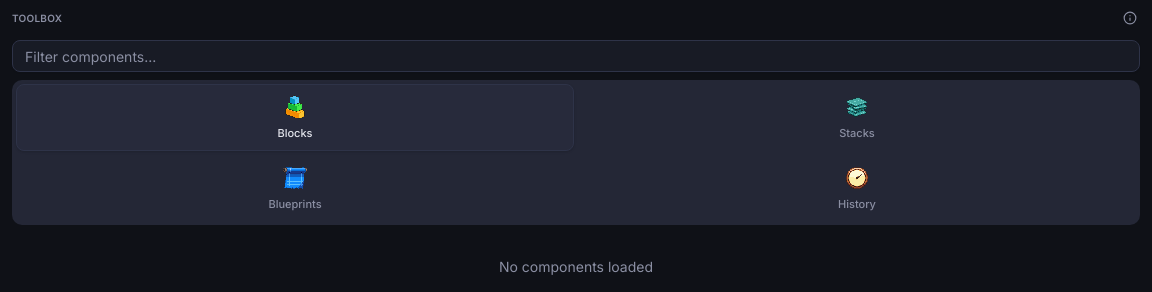
Test: ToolboxPanel › shows blueprint empty state when Blueprints tab is clicked (no blueprints loaded)
This screenshot has width=1152, height=292.
Click the tab "Blueprints" at point(295, 188), box [16, 154, 574, 221]
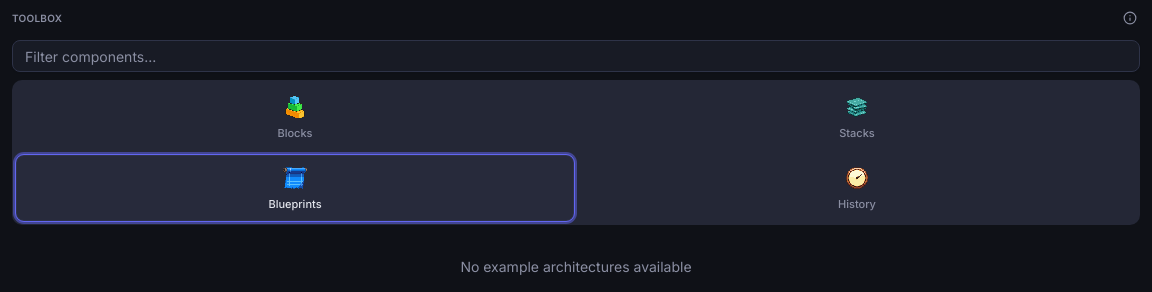
Expected: the text "No example architectures available" is shown, [460, 258, 692, 275]
